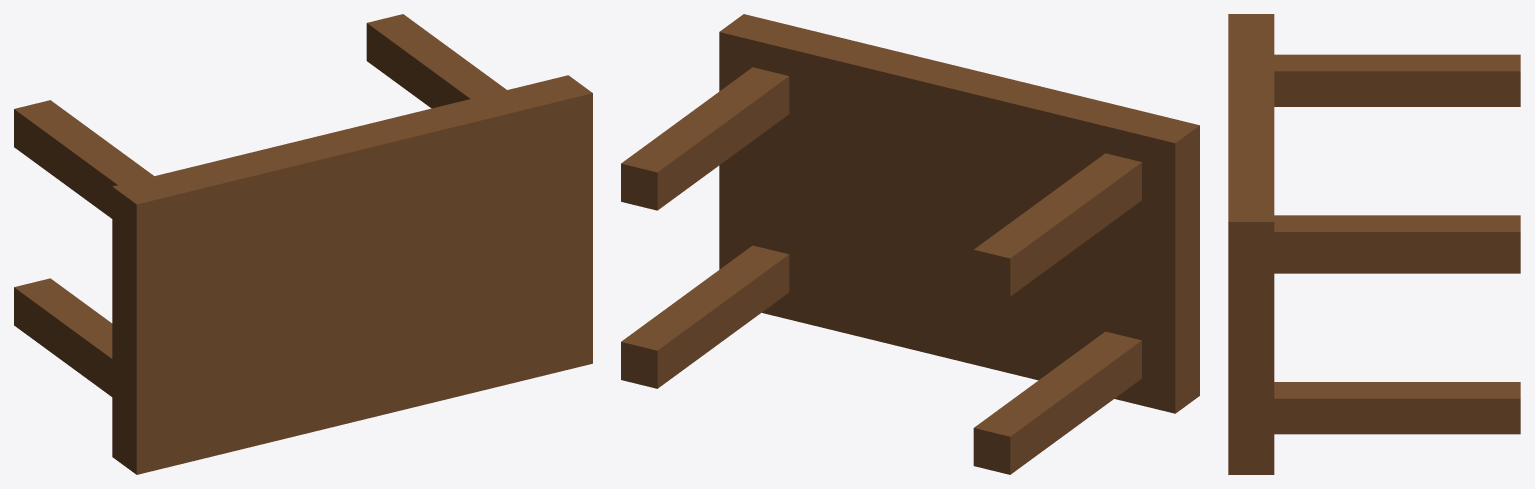
File: SM_CommonMarketTable.obj
3 renders of one model, left to right at view 1: azimuth 30°, elevation 25°; view 2: azimuth 150°, elevation 25°; view 3: azimuth 270°, elevation 25°, orthographic. The views are drawn at different scales.
Parts seen in each view (by area): view 1: SM_CommonMarketTable; view 2: SM_CommonMarketTable; view 3: SM_CommonMarketTable.
Part boxes in pixels (x1,y1,x2,y2): SM_CommonMarketTable: (14,14,592,474); SM_CommonMarketTable: (621,14,1199,474); SM_CommonMarketTable: (1228,14,1520,474).
Size of the model in its own units: 150 by 85 by 89.
